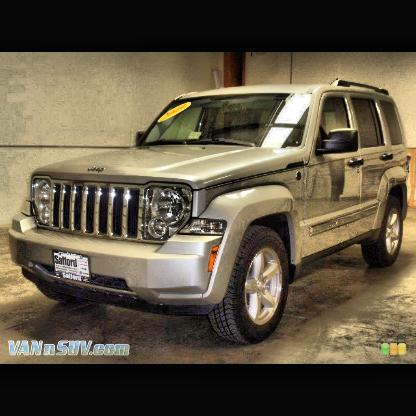Jeep Liberty SUV 2012: (7, 79, 412, 350)
